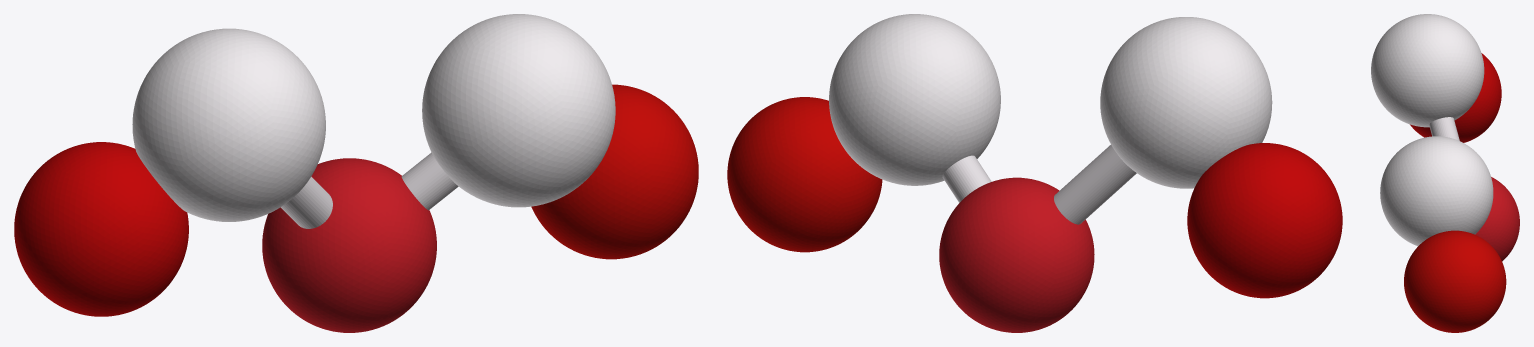
The model's file is aluminium_oxide.glb.
3 views of the same model, side by side, from view 1: azimuth 30°, elevation 25°; view 2: azimuth 150°, elevation 25°; view 3: azimuth 270°, elevation 25° (orthographic). The views are drawn at different scales.
Visible parts, largest first — view 1: Aluminum_Al2, Aluminum_Al1, Oxygen_O1, Oxygen_O2, Oxygen_O3, Al2-O2, Al1-O2; view 2: Aluminum_Al2, Aluminum_Al1, Oxygen_O1, Oxygen_O2, Oxygen_O3, Al1-O2, Al2-O2; view 3: Aluminum_Al1, Aluminum_Al2, Oxygen_O3, Oxygen_O1, Oxygen_O2, Al1-O2.
Part boxes in pixels (x1,y1,x2,y2): Aluminum_Al2: [422, 14, 615, 207]; Aluminum_Al1: [132, 28, 325, 221]; Oxygen_O1: [14, 142, 188, 316]; Oxygen_O2: [262, 158, 436, 332]; Oxygen_O3: [531, 84, 698, 259]; Al2-O2: [401, 152, 458, 210]; Al1-O2: [280, 176, 332, 228]; Aluminum_Al2: [829, 14, 1000, 185]; Aluminum_Al1: [1100, 17, 1272, 188]; Oxygen_O1: [1187, 143, 1342, 298]; Oxygen_O2: [939, 177, 1094, 332]; Oxygen_O3: [727, 97, 882, 252]; Al1-O2: [1054, 145, 1136, 224]; Al2-O2: [942, 155, 991, 202]; Aluminum_Al1: [1371, 14, 1484, 127]; Aluminum_Al2: [1380, 136, 1493, 246]; Oxygen_O3: [1404, 230, 1506, 332]; Oxygen_O1: [1410, 53, 1501, 142]; Oxygen_O2: [1475, 177, 1519, 261]; Al1-O2: [1429, 117, 1459, 140].
Size of the model in its own units: 3.44 by 1.74 by 1.14.
